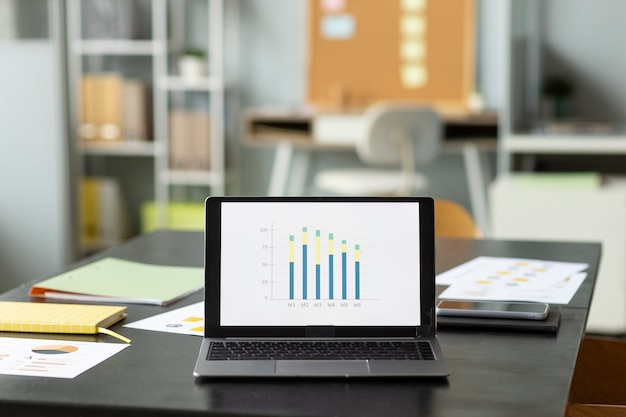not a gesture sign: (67, 0, 227, 227)
